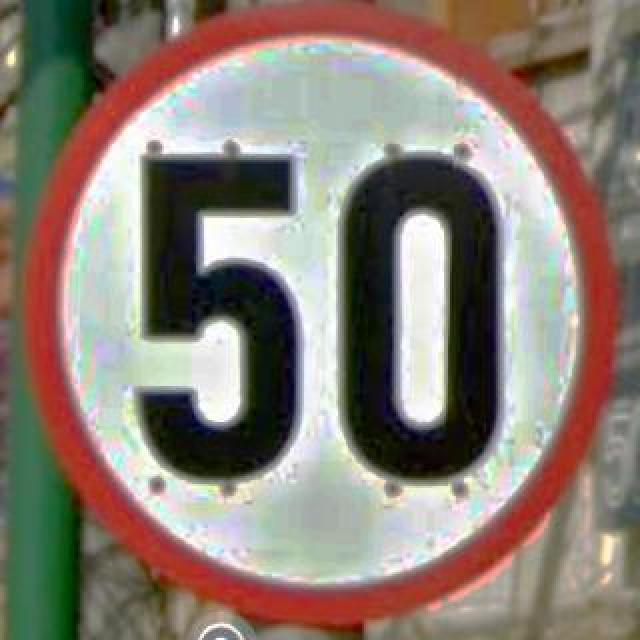50 kph: (18, 0, 618, 626)
